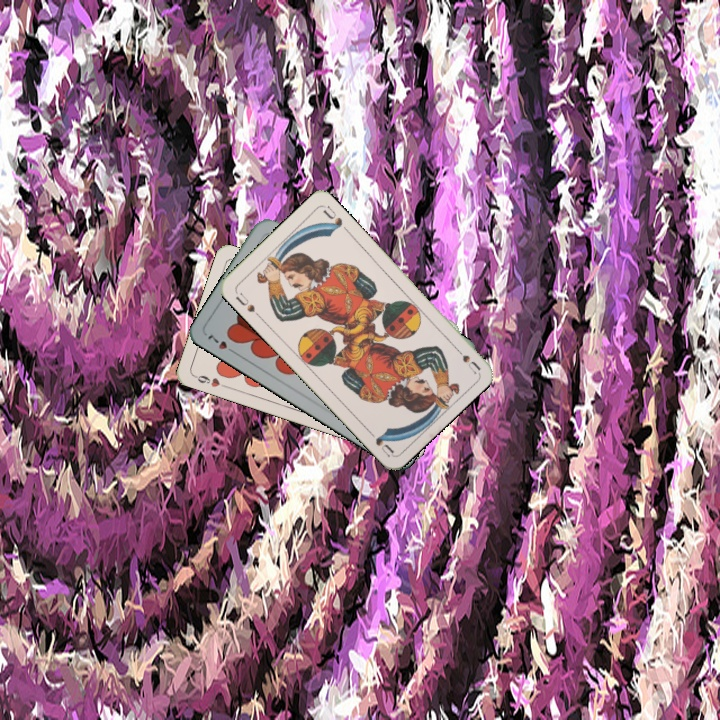H7: (203, 330, 240, 357)
H9: (190, 371, 230, 391)
SU: (449, 341, 482, 376), (232, 288, 263, 320)
